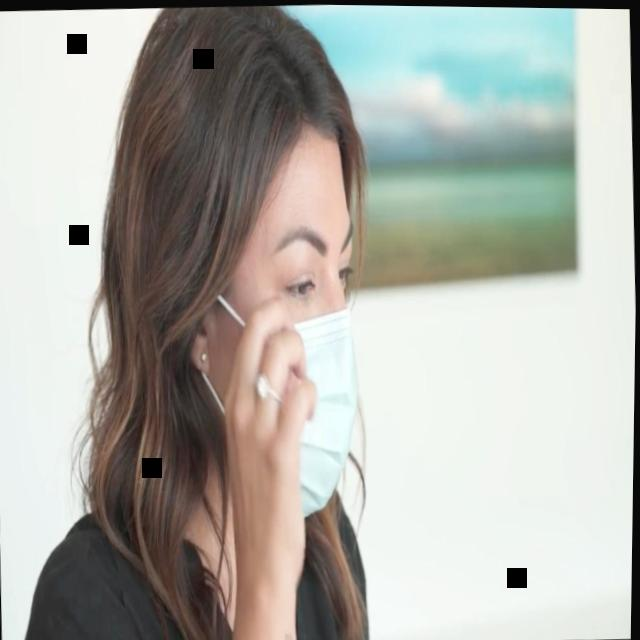Mask: (196, 120, 370, 520)
